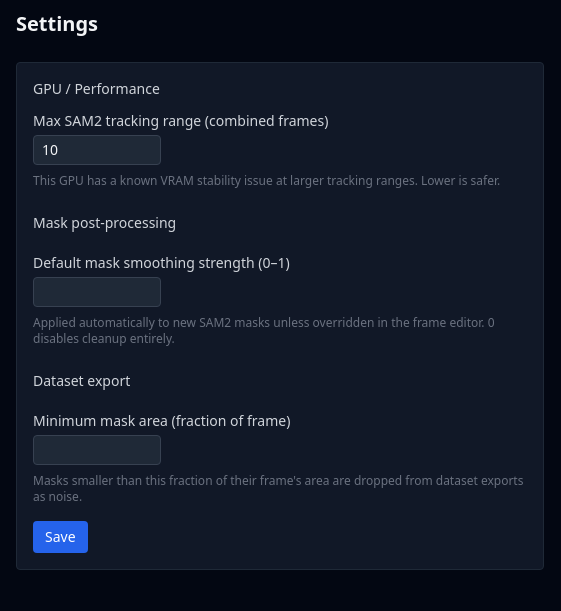
Test: SettingsPage › renders a readable message instead of crashing when detail is a FastAPI 422 array
What coordinates should you click on to do the following:
click the button "Save"
I would click on:
 (60, 537)
Its box is 33,521 -> 88,553.
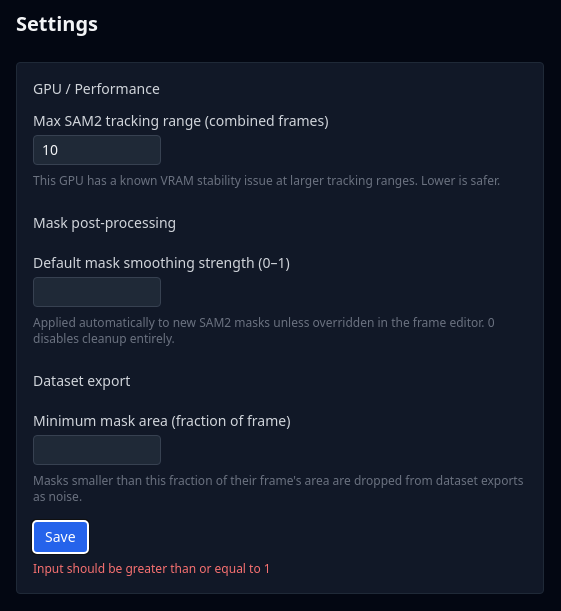
Check: the text "Input should be greater than or equal to 1" is shown, box 33,560 -> 271,577
